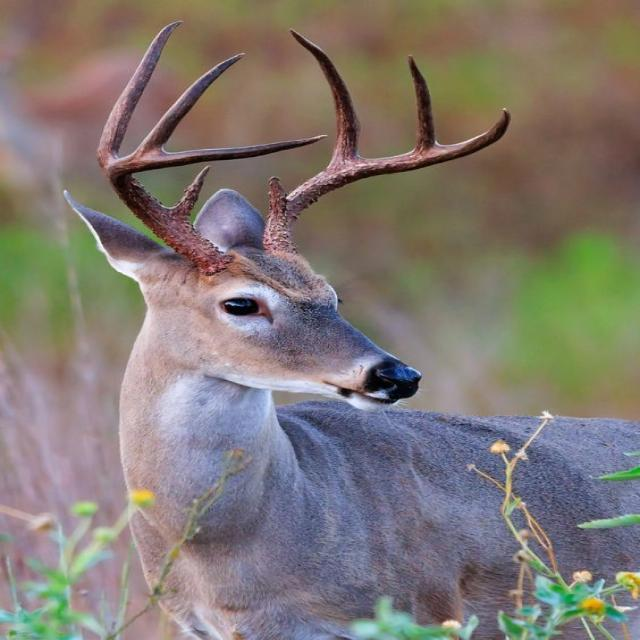L-F: (261, 108, 510, 255)
L-G1: (266, 175, 286, 211)
L-G2: (288, 28, 364, 166)
L-G3: (409, 54, 441, 152)
R-F: (107, 134, 329, 276)
R-G1: (168, 164, 212, 220)
R-G2: (94, 20, 185, 171)
R-G3: (130, 52, 246, 154)
